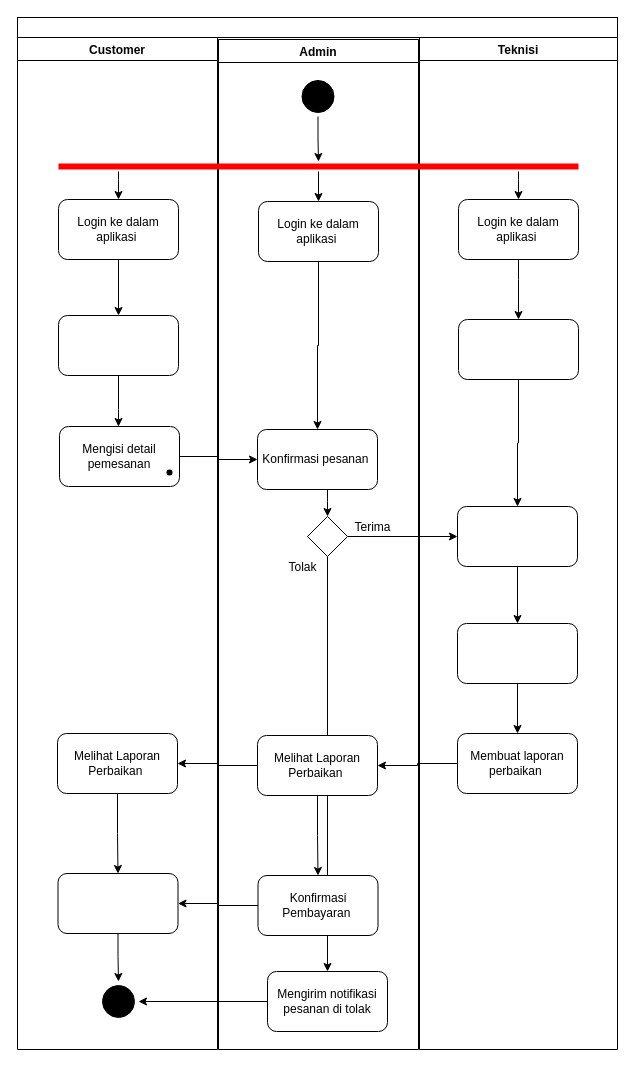
Some shapes in this 635 by 1067 pixel diagram are drawn without their labels. Each missing label, with the centre of its shape:
"Melakukan Pembayaran" belongs at [117,903].
"Melakukan service pada customer" belongs at [517,653].
"Melihat data pesanan customer" belongs at [518,349].
"Memilih jenis layanan pada aplikasi MJS" belongs at [118,345].
"Menerima pesanan yang telah di konfirmasi" belongs at [517,536].
"Proses Pemesanan Service AC MJS" belongs at [317,27].
